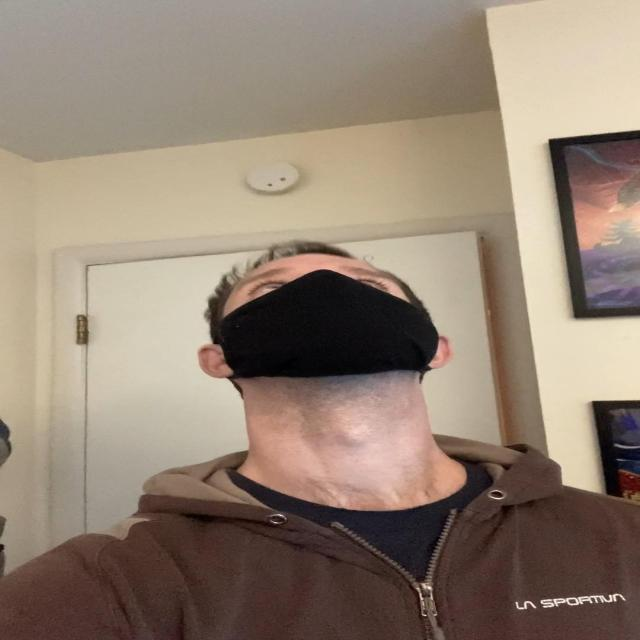Mask: (206, 246, 444, 384)
